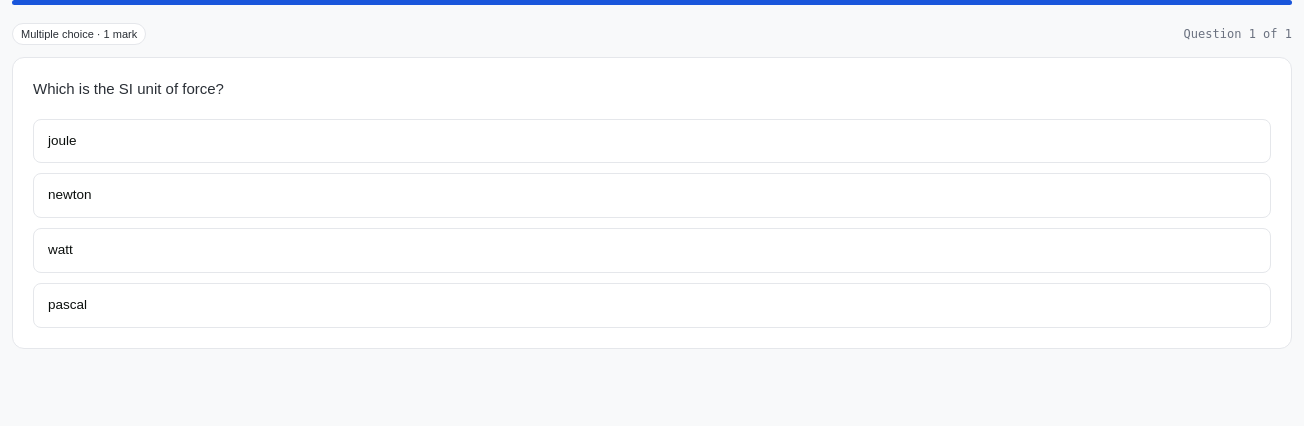
Test: answering multiple choice › completes the quiz: Finish shows the results from the marks
Click the button "joule".
click(62, 140)  # box [33,118,1271,163]
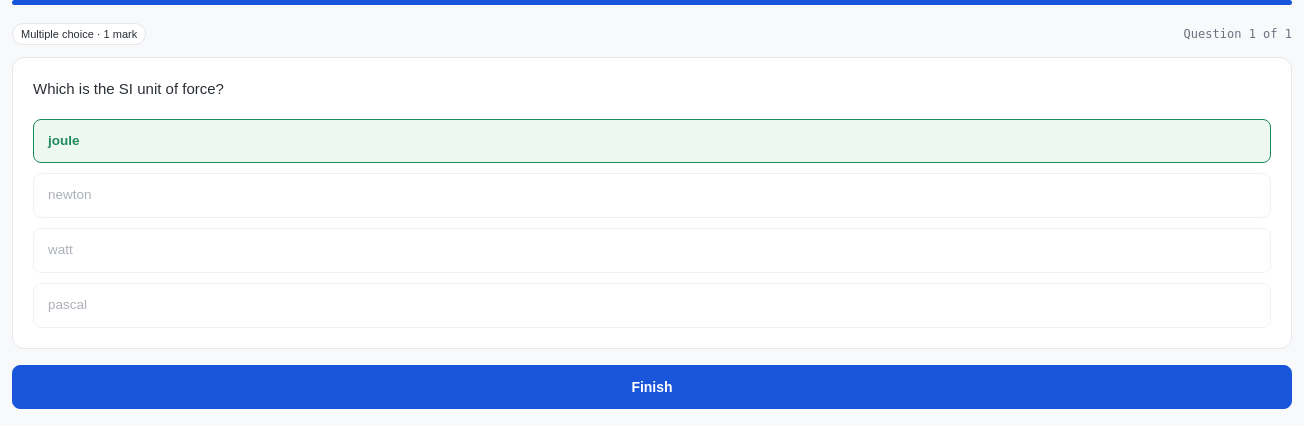
Click the button "Finish".
click(652, 387)  # box [12,365,1292,409]
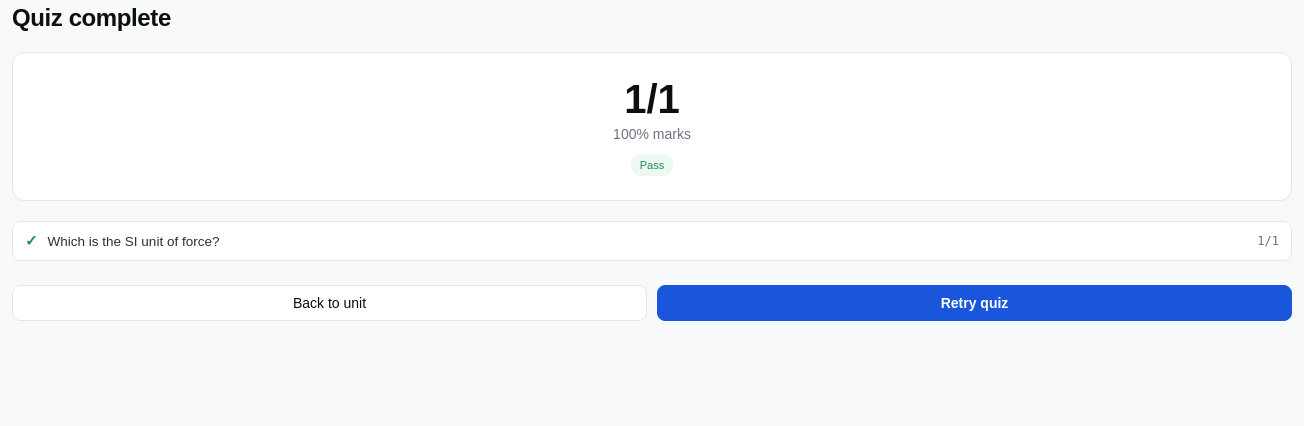
Expected: the heading "Quiz complete" is shown, [12,4,171,31]
Expected: the text "100% marks" is shown, [613,126,691,142]
